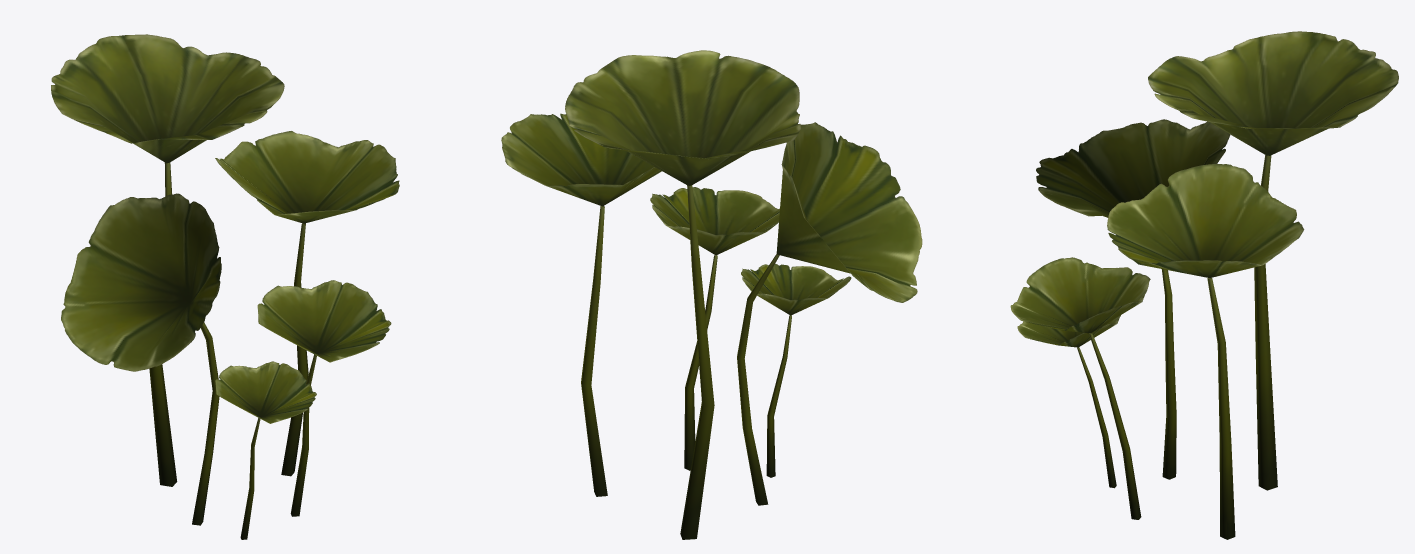
The model's file is Wetlands_Plant_03.fbx.
The picture shows the model from 3 angles, left to right: view 1: azimuth 30°, elevation 25°; view 2: azimuth 150°, elevation 25°; view 3: azimuth 270°, elevation 25°; orthographic projection. The views are drawn at different scales.
Parts seen in each view (by area): view 1: Wetlands_Plant_03; view 2: Wetlands_Plant_03; view 3: Wetlands_Plant_03.
Boxes of the visible parts, box(x1,y1,x2,y2) form: Wetlands_Plant_03: box(51, 34, 399, 539); Wetlands_Plant_03: box(501, 50, 922, 539); Wetlands_Plant_03: box(1010, 31, 1398, 539).
Bounding box in the file's own units: 3.77 × 4.15 × 3.67.
Materials: 1 (1 with a texture image).
